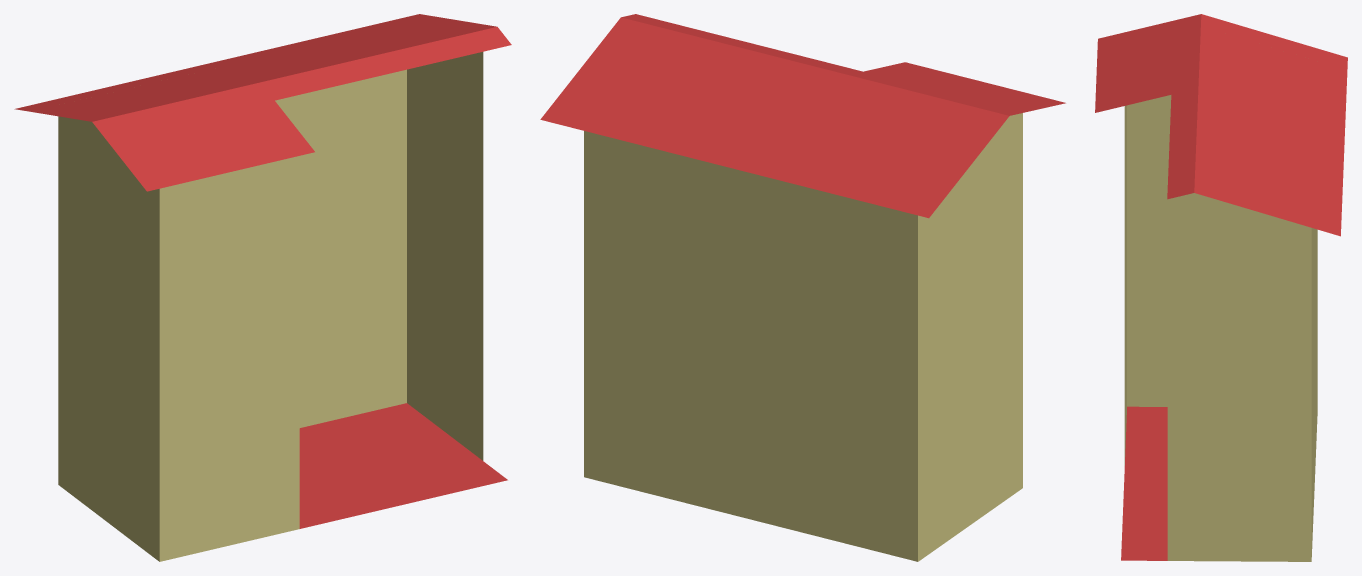
The picture shows the model from 3 angles, left to right: view 1: azimuth 30°, elevation 25°; view 2: azimuth 150°, elevation 25°; view 3: azimuth 270°, elevation 25°; orthographic projection. The views are drawn at different scales.
Bounding box in the file's own units: 7.2 × 4.26 × 7.08.
